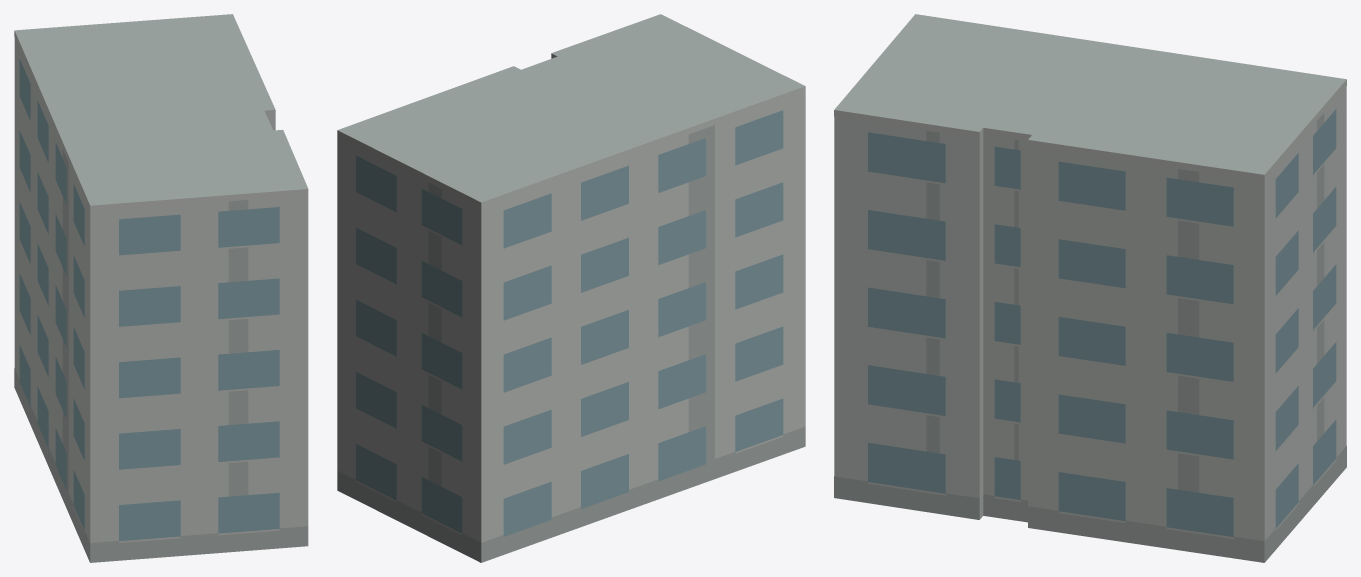
File: survey-upis-32955743.glb
The picture shows the model from 3 angles, left to right: view 1: azimuth 30°, elevation 25°; view 2: azimuth 150°, elevation 25°; view 3: azimuth 270°, elevation 25°; orthographic projection. The views are drawn at different scales.
Visible parts, largest first — view 1: survey-upis-32955743.tmp; view 2: survey-upis-32955743.tmp; view 3: survey-upis-32955743.tmp.
Boxes of the visible parts, box(x1,y1,x2,y2) form: survey-upis-32955743.tmp: box(14, 14, 308, 562); survey-upis-32955743.tmp: box(337, 14, 805, 562); survey-upis-32955743.tmp: box(834, 14, 1346, 562).
Size of the model in its own units: 12.28 by 13.8 by 16.53.
